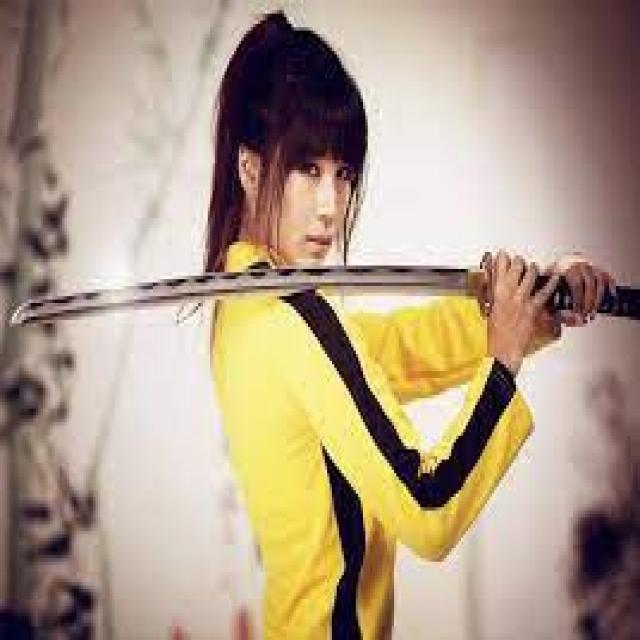long sword: (8, 248, 640, 336)
